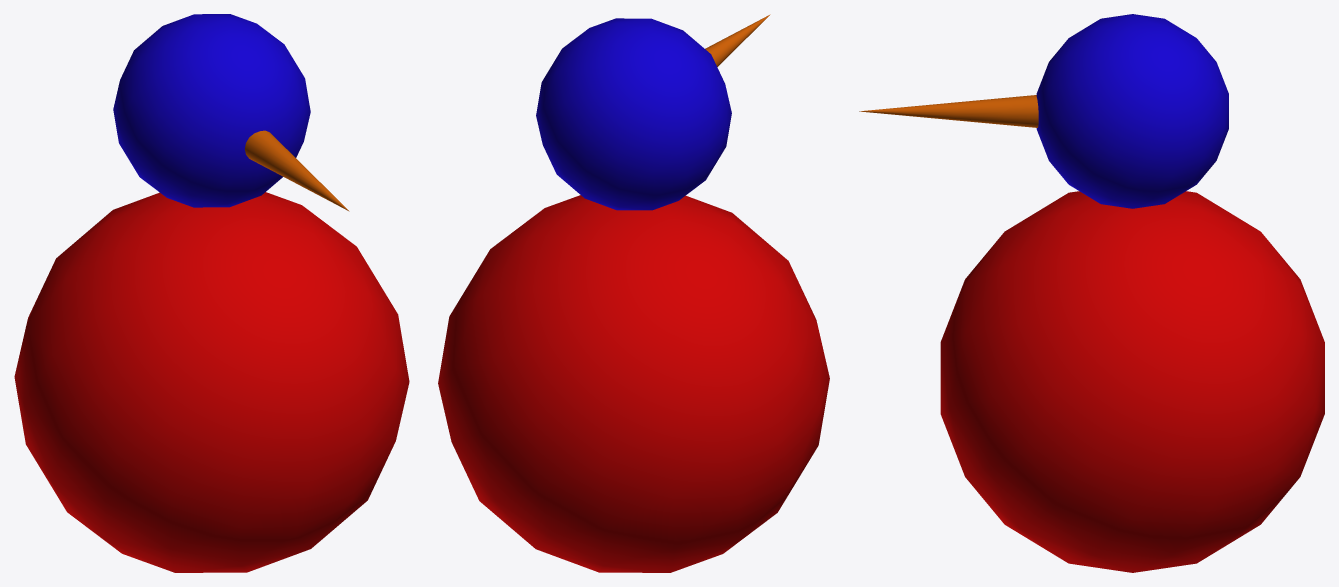
Rendered from Test_Room.fbx.
3 renders of one model, left to right at view 1: azimuth 30°, elevation 25°; view 2: azimuth 150°, elevation 25°; view 3: azimuth 270°, elevation 25°, orthographic.
Parts seen in each view (by area): view 1: Sphere, Sphere_1, Cone; view 2: Sphere, Sphere_1, Cone; view 3: Sphere, Sphere_1, Cone.
Part boxes in pixels (x1,y1,x2,y2): Sphere: [14, 192, 409, 572]; Sphere_1: [113, 14, 310, 207]; Cone: [245, 130, 349, 211]; Sphere: [438, 195, 829, 572]; Sphere_1: [536, 18, 731, 210]; Cone: [705, 14, 770, 66]; Sphere: [940, 191, 1324, 572]; Sphere_1: [1036, 14, 1228, 208]; Cone: [859, 95, 1038, 127].
Size of what is drawn, in the model's own units: 19.59 by 29.69 by 23.79.
